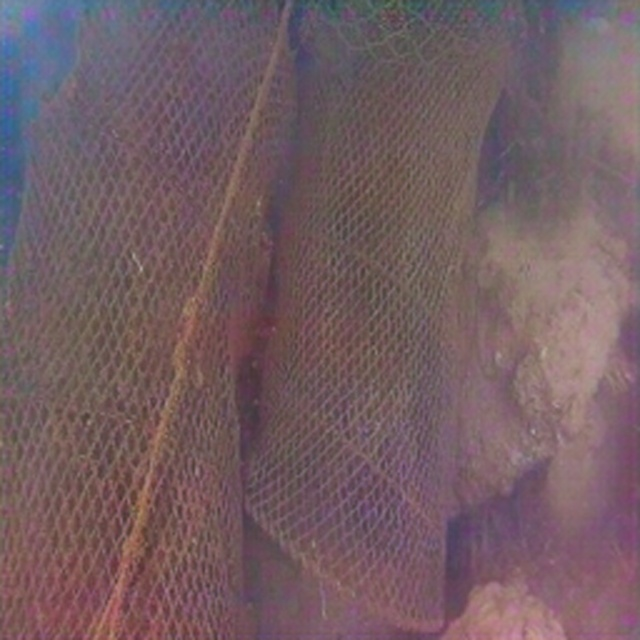mine: (1, 2, 296, 639), (239, 5, 512, 635)
